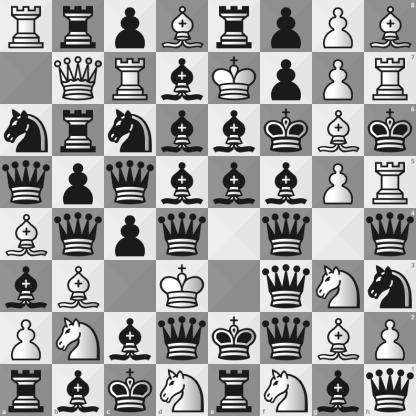B: (364, 0, 416, 52), (1, 209, 52, 260), (53, 261, 104, 312), (157, 1, 208, 52), (313, 105, 364, 156), (313, 313, 364, 364)
K: (157, 261, 208, 312), (209, 53, 260, 104)
N: (156, 364, 209, 416), (260, 364, 312, 416), (53, 313, 104, 364), (313, 261, 364, 312)
P: (364, 312, 416, 364), (1, 313, 52, 364), (313, 1, 364, 52), (313, 53, 364, 104), (313, 157, 364, 208)
Q: (53, 53, 104, 104)
R: (364, 156, 416, 209), (364, 52, 416, 104), (1, 1, 52, 52), (105, 53, 156, 104)
b: (52, 364, 104, 416), (312, 364, 364, 416), (1, 261, 52, 312), (105, 313, 156, 364), (157, 53, 208, 104), (157, 105, 208, 156), (157, 157, 208, 208), (209, 105, 260, 156), (209, 157, 260, 208), (261, 157, 312, 208)
board: (0, 0, 415, 415)
k: (104, 364, 156, 416), (364, 104, 416, 156), (209, 313, 260, 364), (261, 105, 312, 156)
n: (364, 260, 416, 312), (1, 105, 52, 156), (105, 105, 156, 156)
p: (53, 157, 104, 208), (105, 1, 156, 52), (105, 209, 156, 260), (261, 1, 312, 52), (261, 53, 312, 104)
q: (364, 364, 416, 416), (364, 209, 416, 260), (1, 157, 52, 208), (53, 209, 104, 260), (105, 157, 156, 208), (157, 209, 208, 260), (157, 313, 208, 364), (261, 209, 312, 260), (261, 261, 312, 312), (261, 313, 312, 364)
r: (0, 364, 52, 416), (209, 364, 260, 416), (53, 1, 104, 52), (53, 105, 104, 156), (209, 1, 260, 52)
